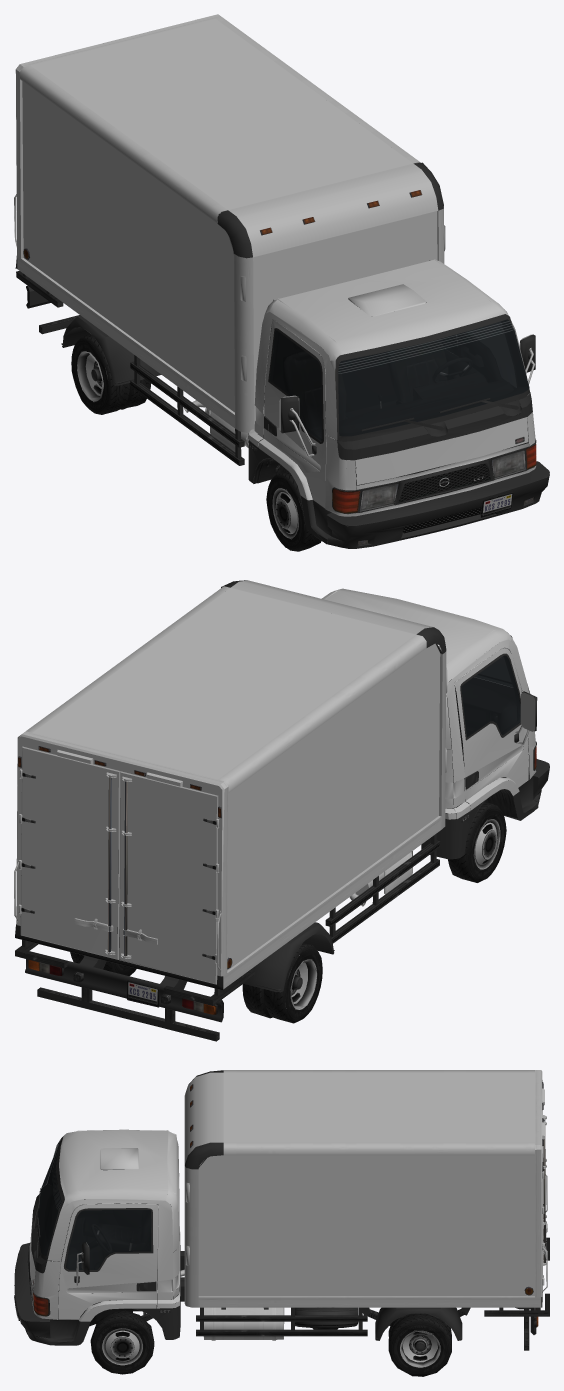
Rendered from lct-3000-95.glb.
The picture shows the model from 3 angles, top to bottom: view 1: azimuth 30°, elevation 25°; view 2: azimuth 150°, elevation 25°; view 3: azimuth 270°, elevation 25°; orthographic projection. The views are drawn at different scales.
Visible parts, largest first — view 1: LCT300095_Blinkers_UCB_Lights_and_Glass_0; view 2: LCT300095_Blinkers_UCB_Lights_and_Glass_0; view 3: LCT300095_Blinkers_UCB_Lights_and_Glass_0.
Boxes of the visible parts, left/top/right/bottom form: LCT300095_Blinkers_UCB_Lights_and_Glass_0: left=14, top=14, right=549, bottom=551; LCT300095_Blinkers_UCB_Lights_and_Glass_0: left=14, top=580, right=549, bottom=1041; LCT300095_Blinkers_UCB_Lights_and_Glass_0: left=14, top=1070, right=549, bottom=1376.
Bounding box in the file's own units: 1.94 × 2.13 × 4.5.
Materials: 8 (7 with a texture image).
